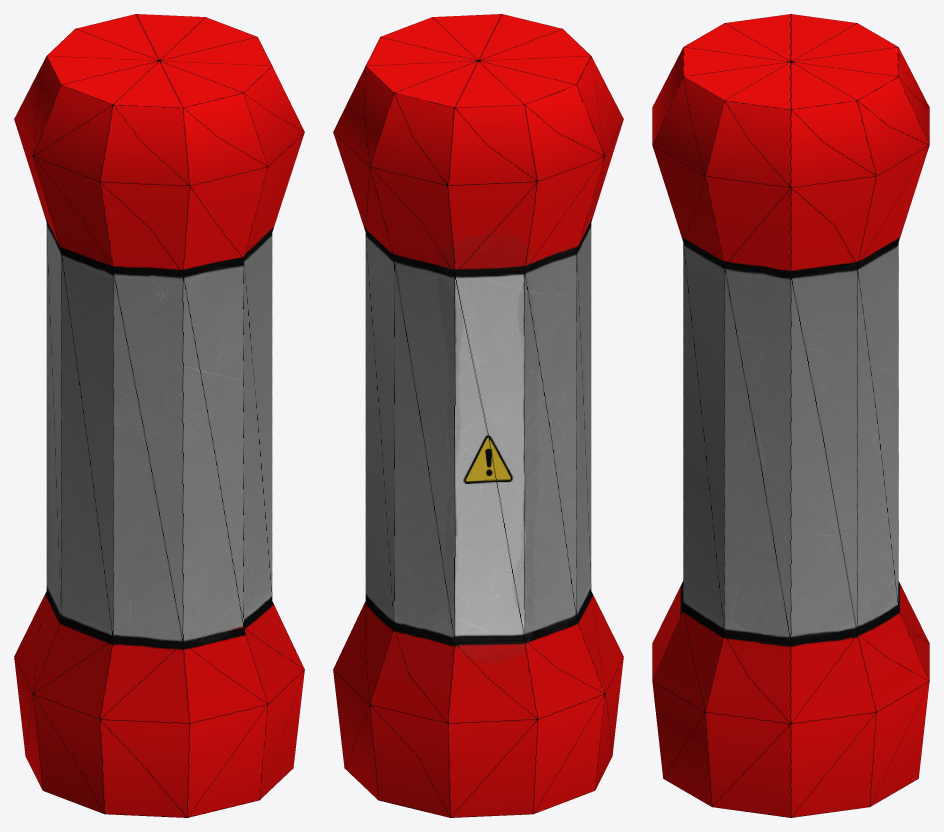
Rendered from Extinguisher.fbx.
The picture shows the model from 3 angles, left to right: view 1: azimuth 30°, elevation 25°; view 2: azimuth 150°, elevation 25°; view 3: azimuth 270°, elevation 25°; orthographic projection.
Parts seen in each view (by area): view 1: pCylinder1; view 2: pCylinder1; view 3: pCylinder1.
Part boxes in pixels (x1,y1,x2,y2): pCylinder1: (14,14,304,817); pCylinder1: (333,14,623,817); pCylinder1: (652,14,929,817).
Size of the model in its own units: 3.48 by 9.2 by 3.31.
Materials: 1 (1 with a texture image).
